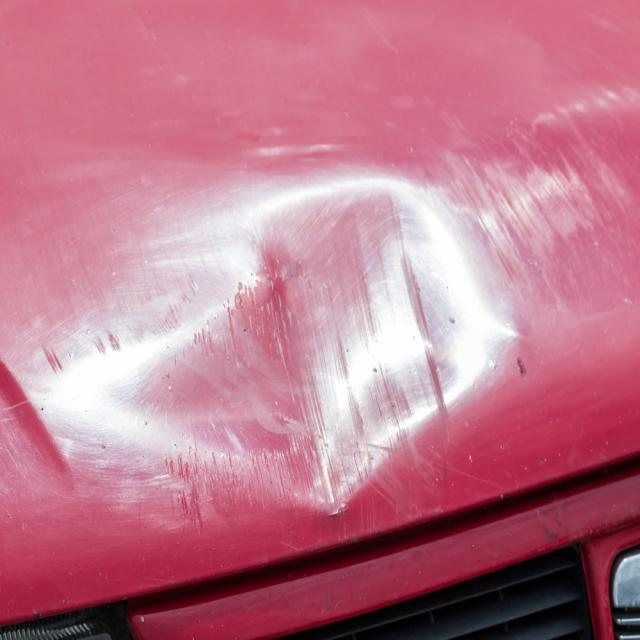dent: (66, 178, 501, 511)
